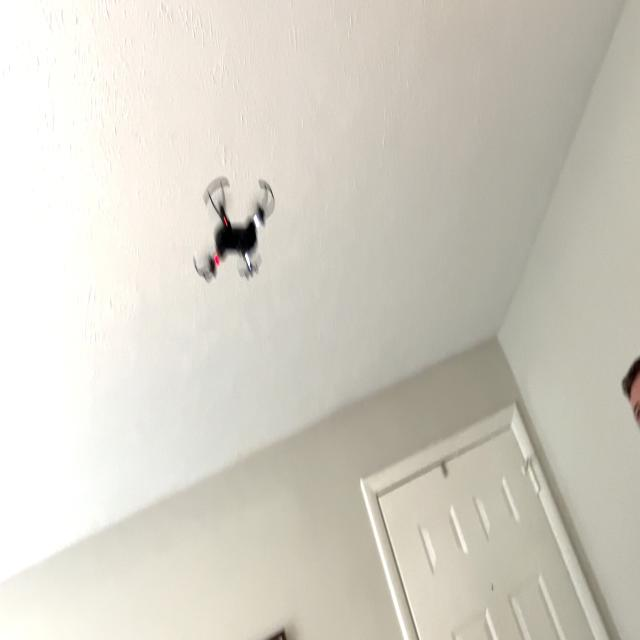drone: (183, 157, 284, 304)
